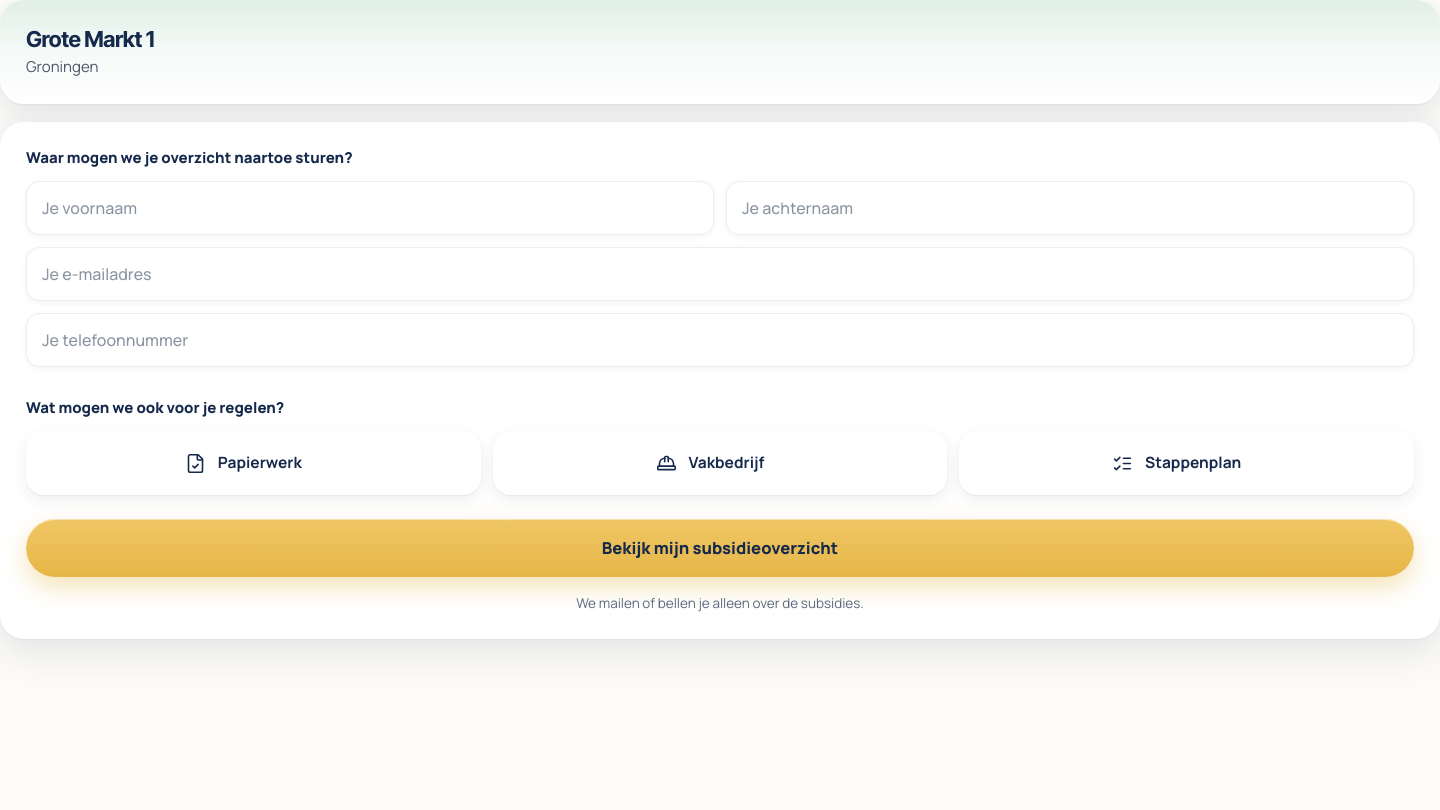
Test: gegevens-poort bij een bronfout › verstuurt niets zonder telefoonnummer
Expected: the field with placeholder "Je voornaam" is shown, 26,181 -> 714,235
Click the checkbox labelled "Papierwerk": coordinates (253, 463) 26,431 -> 481,495
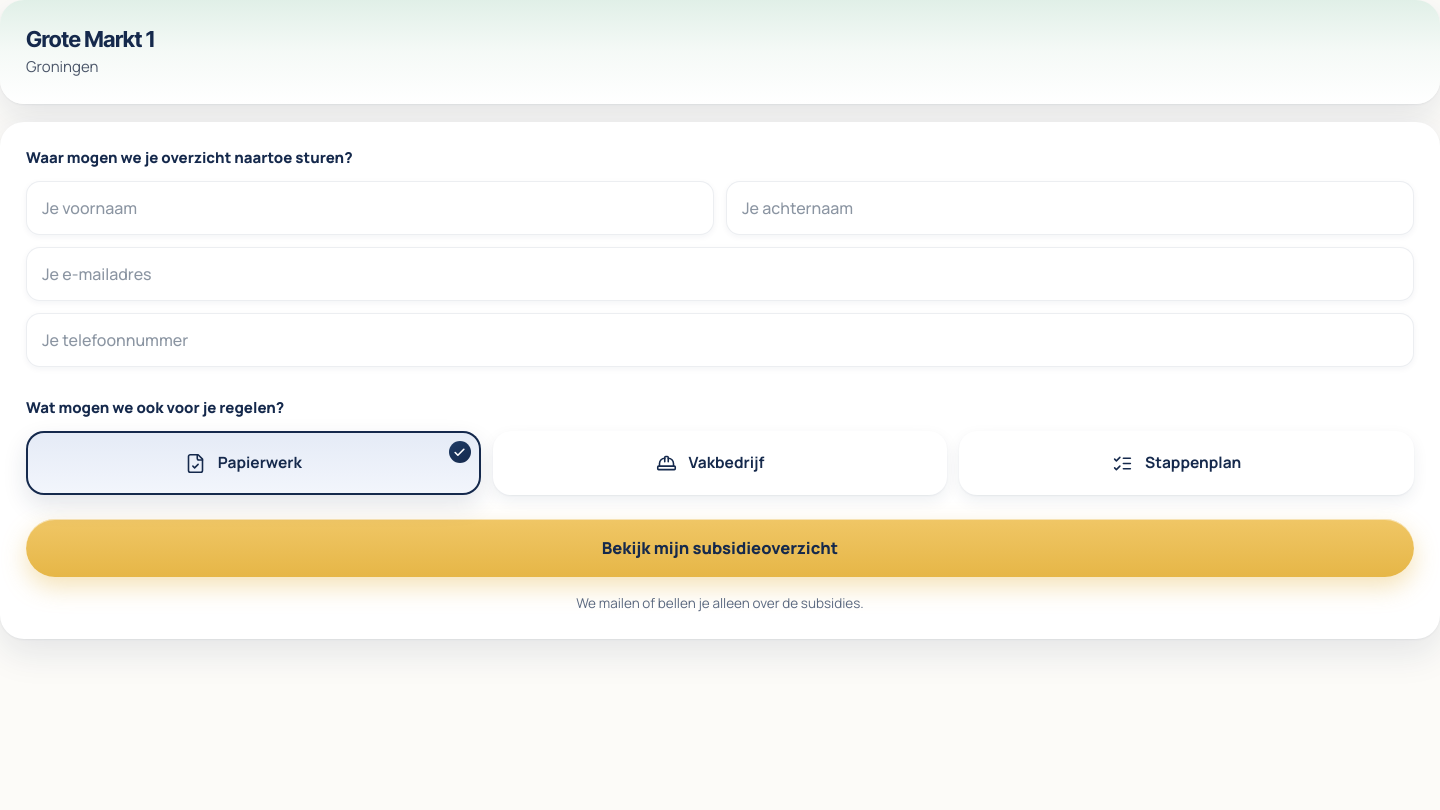
In the field with placeholder "Je voornaam": coordinates (370, 208) 26,181 -> 714,235, type "Jan"
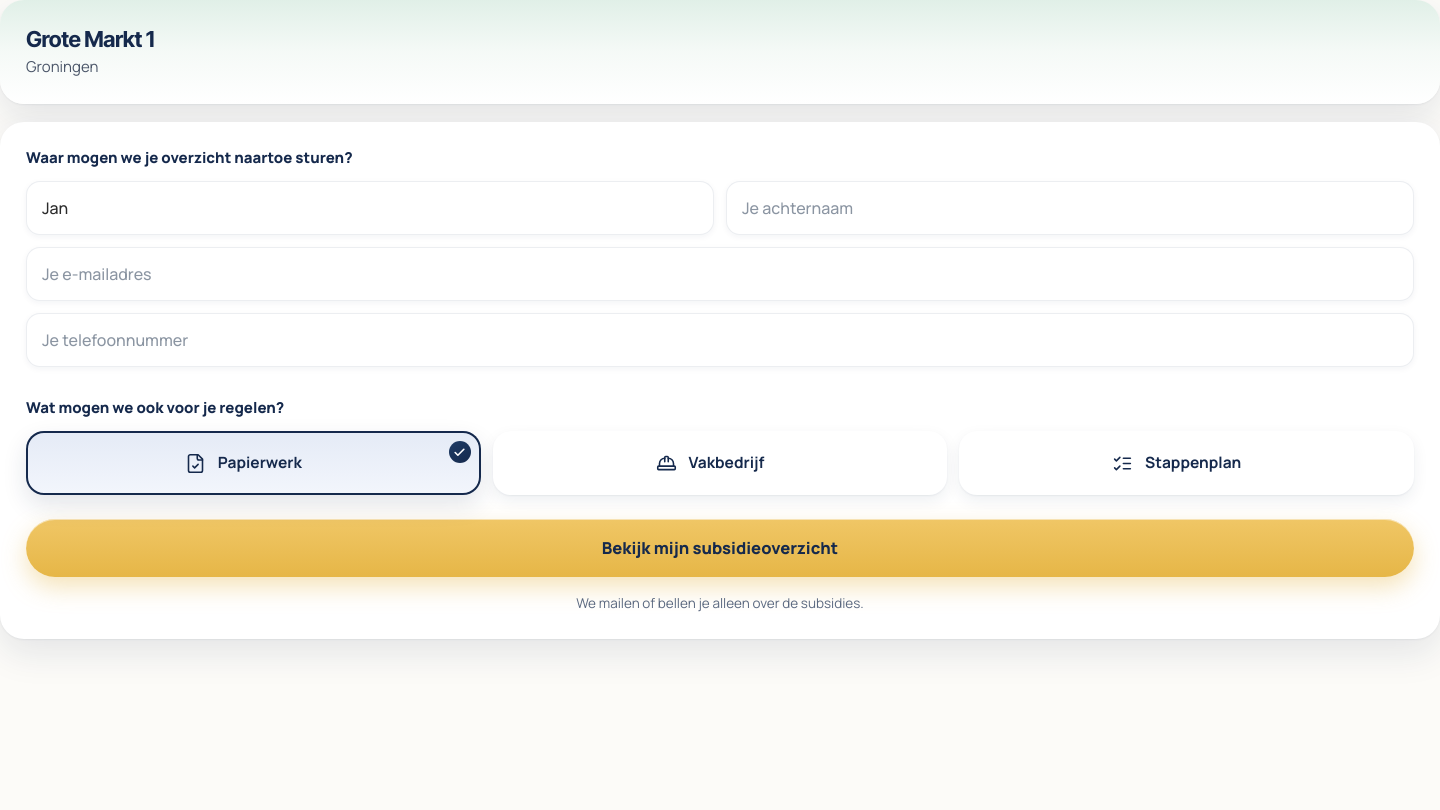
In the field with placeholder "Je achternaam": coordinates (1070, 208) 726,181 -> 1414,235, type "de Vries"
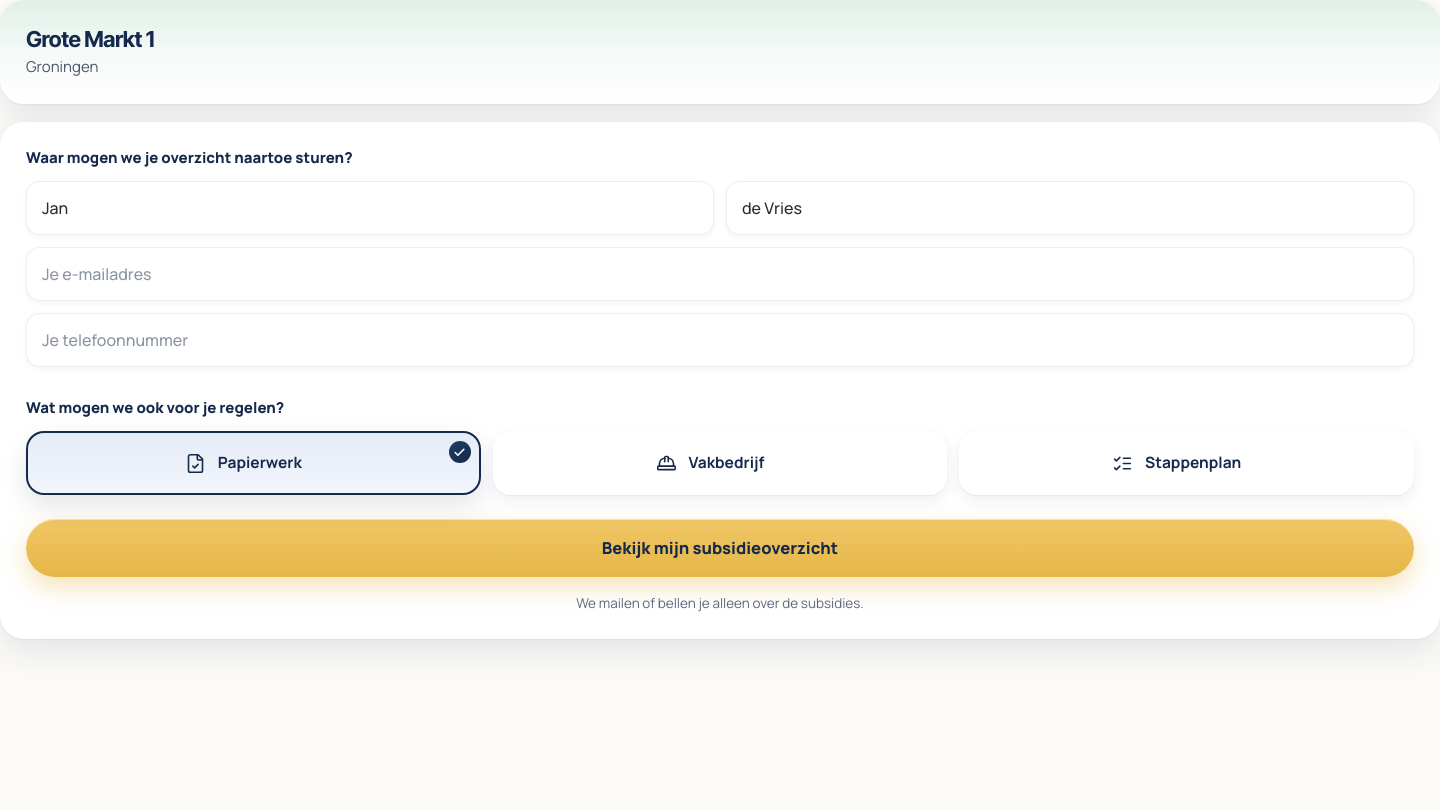
In the field with placeholder "Je e-mailadres": coordinates (720, 274) 26,247 -> 1414,301, type "jan@example.nl"
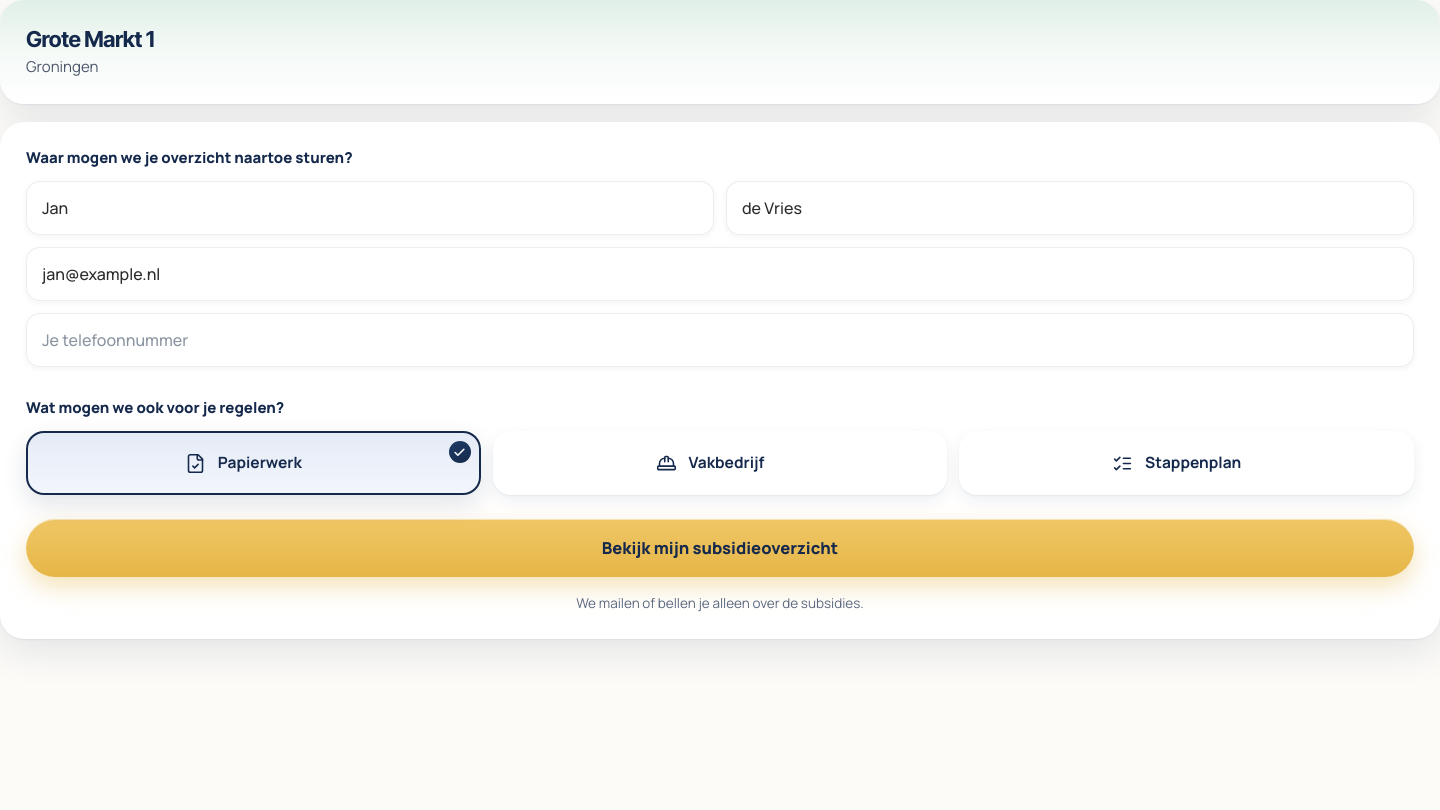
Click the button "Bekijk mijn subsidieoverzicht": coordinates (720, 548) 26,519 -> 1414,577
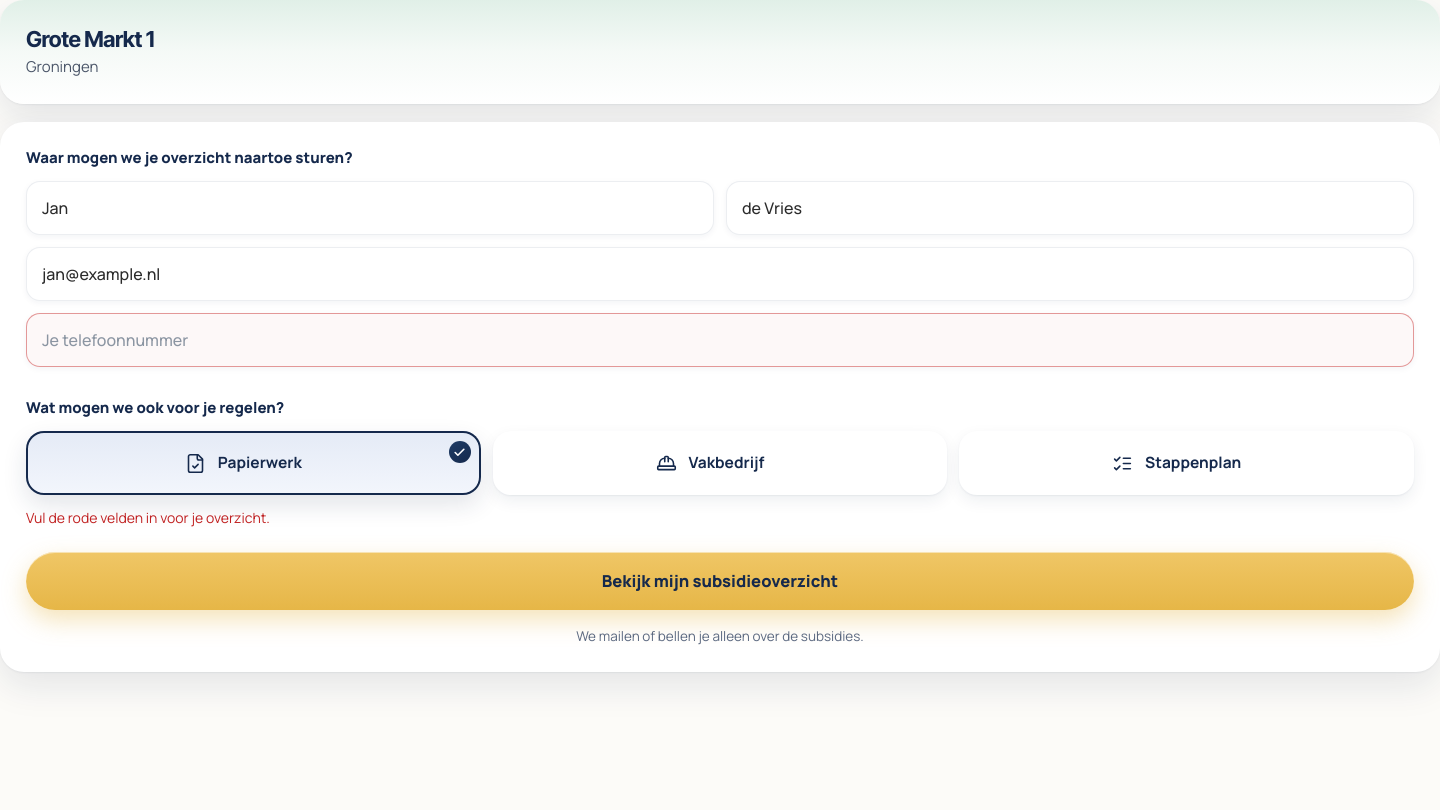
Now the message reads "Vul de rode velden in voor je overzicht.", box 26,508 -> 270,527
